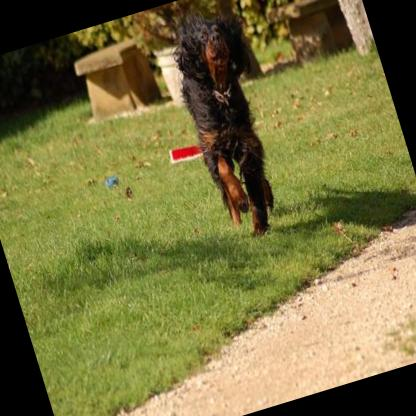Gordon_setter: (160, 8, 289, 241)
